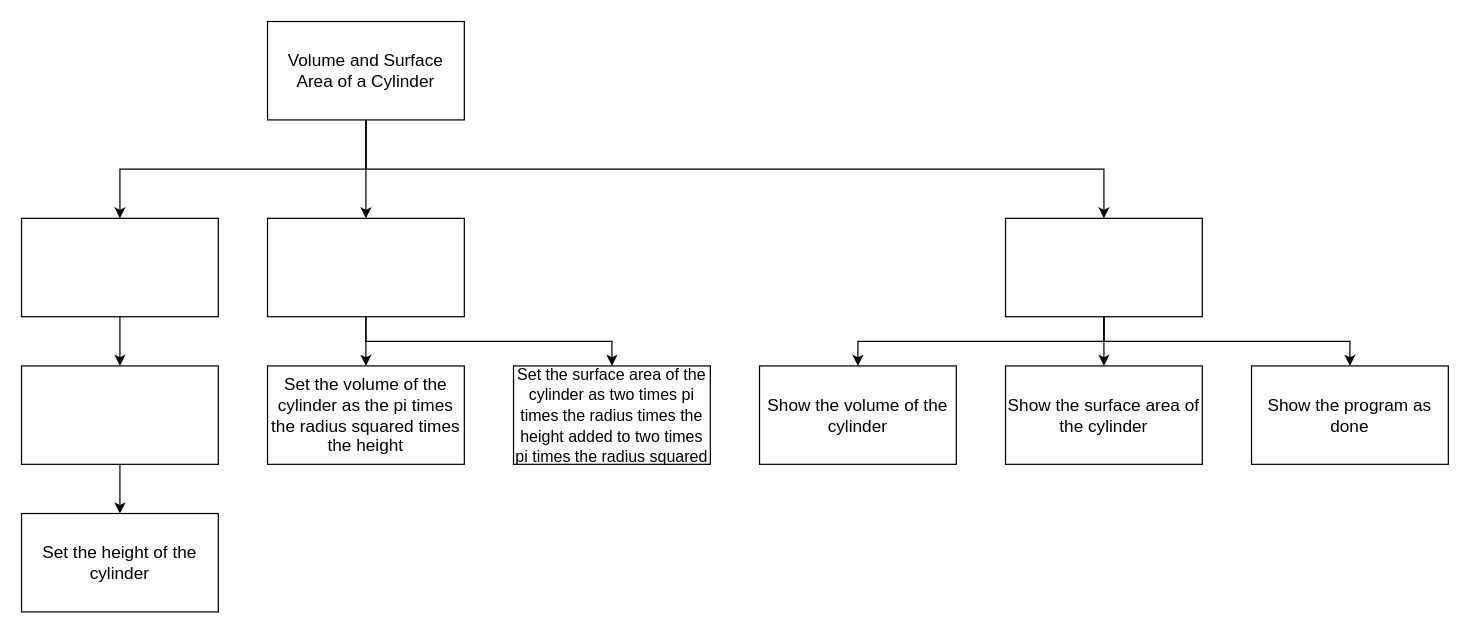
This 1470x633 diagram has some shape labels left out. Each missing label, with the centre of its shape:
"Input" goes at (119,267).
"Output" goes at (1103,267).
"Process" goes at (365,267).
"Set the radius of the cylinder" goes at (119,414).
